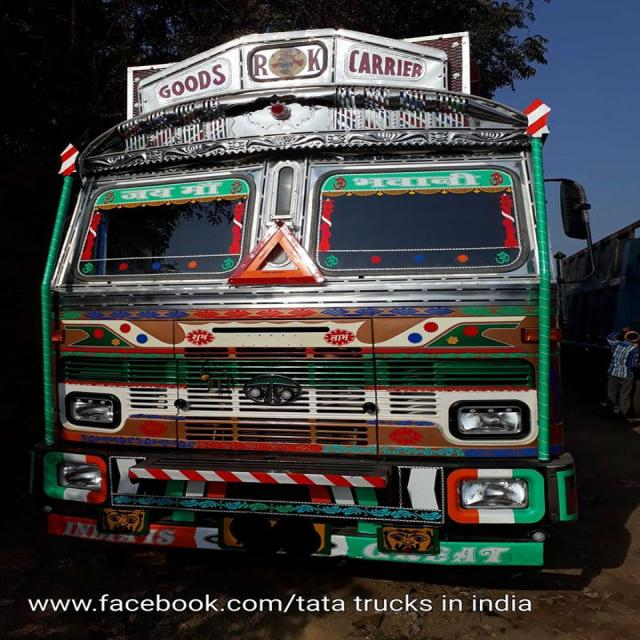truck: (14, 17, 592, 607)
